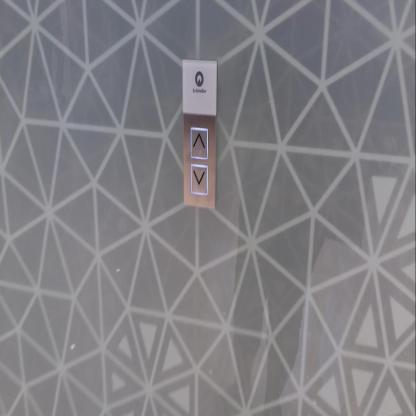down: (190, 162, 208, 194)
up: (190, 126, 209, 161)
